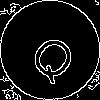Q: (25, 25, 86, 87)
